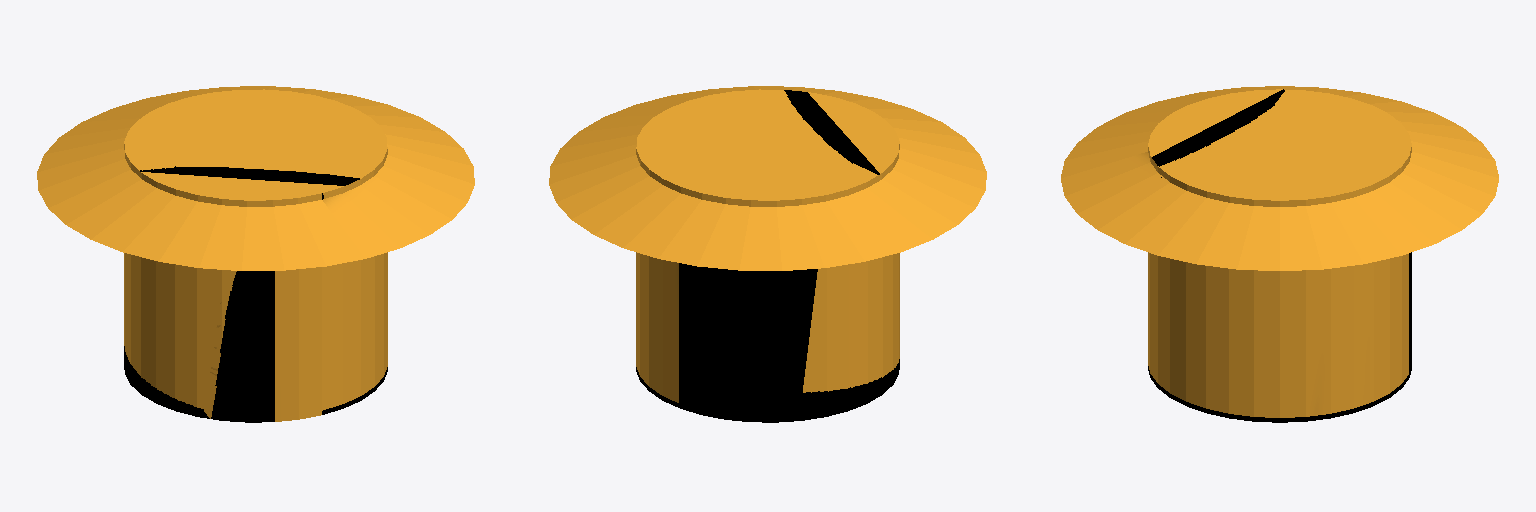
3 renders of one model, left to right at view 1: azimuth 30°, elevation 25°; view 2: azimuth 150°, elevation 25°; view 3: azimuth 270°, elevation 25°, orthographic.
Visible parts, largest first — view 1: Cylinder_Bumper_Circle; view 2: Cylinder_Bumper_Circle; view 3: Cylinder_Bumper_Circle.
Boxes of the visible parts, box(x1,y1,x2,y2) form: Cylinder_Bumper_Circle: box(37, 86, 474, 422); Cylinder_Bumper_Circle: box(549, 86, 986, 422); Cylinder_Bumper_Circle: box(1061, 86, 1498, 422).
Size of the model in its own units: 3.32 by 1.85 by 3.32.
1 materials, 1 textured.